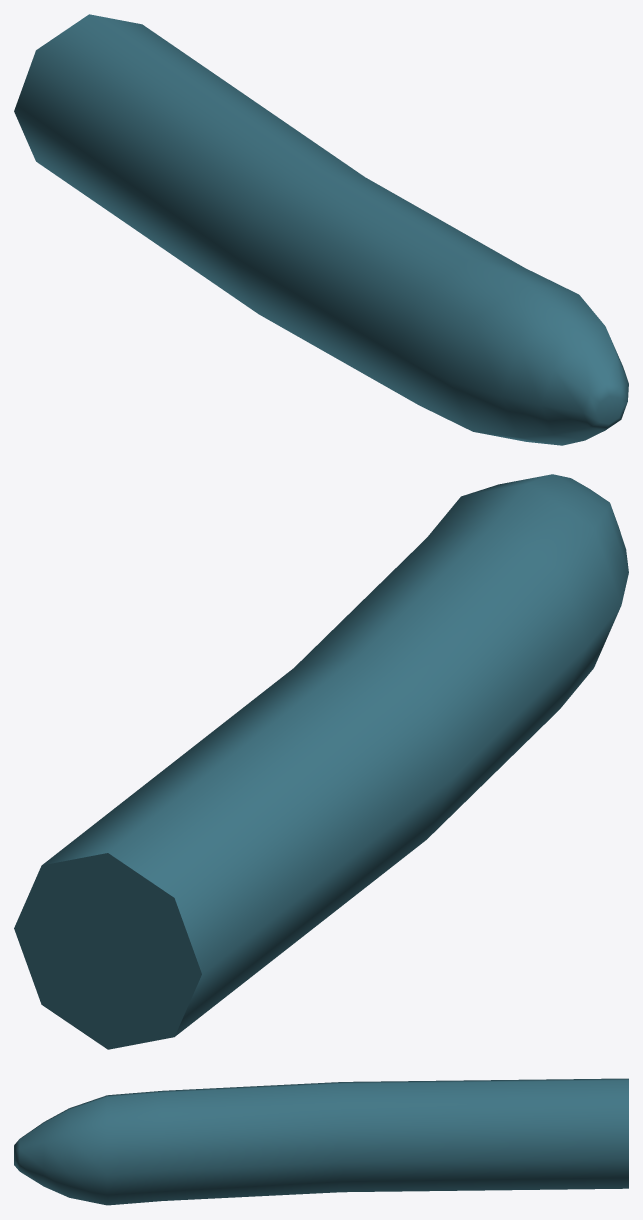
Rendered from SM_SmallTrashkit_Sigaret_001.fbx.
3 renders of one model, top to bottom at view 1: azimuth 30°, elevation 25°; view 2: azimuth 150°, elevation 25°; view 3: azimuth 270°, elevation 25°, orthographic. The views are drawn at different scales.
Parts seen in each view (by area): view 1: SM_SmallTrashkit_sigaret_001; view 2: SM_SmallTrashkit_sigaret_001; view 3: SM_SmallTrashkit_sigaret_001.
Part boxes in pixels (x1,y1,x2,y2): SM_SmallTrashkit_sigaret_001: (14,14,628,445); SM_SmallTrashkit_sigaret_001: (14,474,628,1049); SM_SmallTrashkit_sigaret_001: (14,1078,628,1205).
Size of the model in its own units: 2.21 by 1.65 by 8.65.
